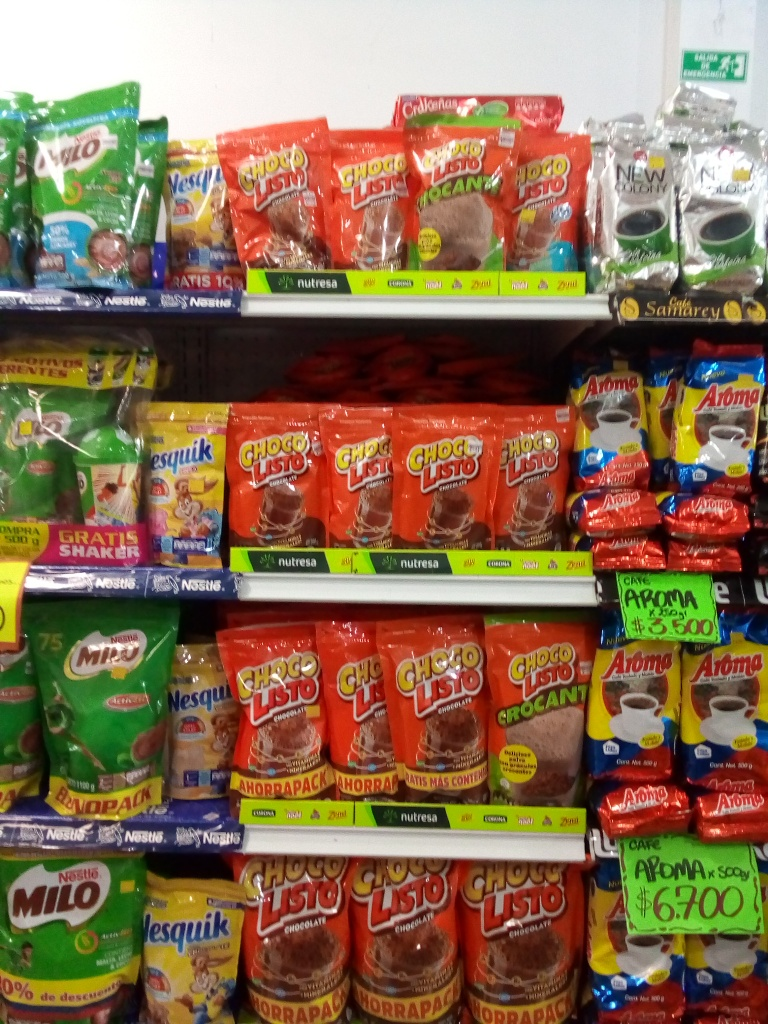COL0170102DYP25000: (406, 112, 516, 271)
COL0170102DYP50000: (479, 615, 592, 814)
COL0170103DYP1,500: (233, 847, 355, 1021)
COL0170103DYP20000: (217, 120, 332, 272)
COL0170103DYP44000: (219, 623, 336, 797)
COL0170104DYP20000: (505, 126, 591, 277)
COL0170205DYP20000: (27, 73, 146, 294)
COL0170303DYP20000: (154, 138, 247, 279)
COL0170305DYP20000: (140, 398, 231, 570)
COL0170306DYP20000: (164, 639, 243, 805)
